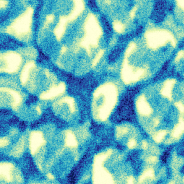hole_filled: (34, 4, 111, 81), (128, 70, 184, 146), (25, 114, 87, 178), (119, 24, 177, 84), (20, 59, 68, 102), (0, 83, 43, 125), (88, 81, 122, 122), (1, 46, 25, 76)
